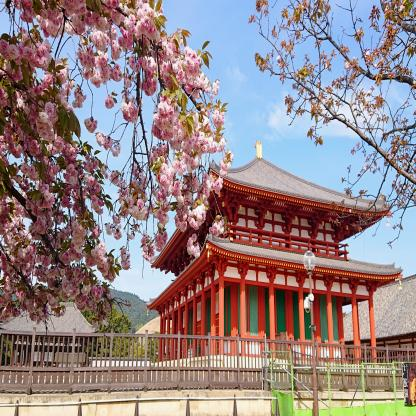YaeSakura: (0, 0, 232, 319), (247, 1, 416, 249)
